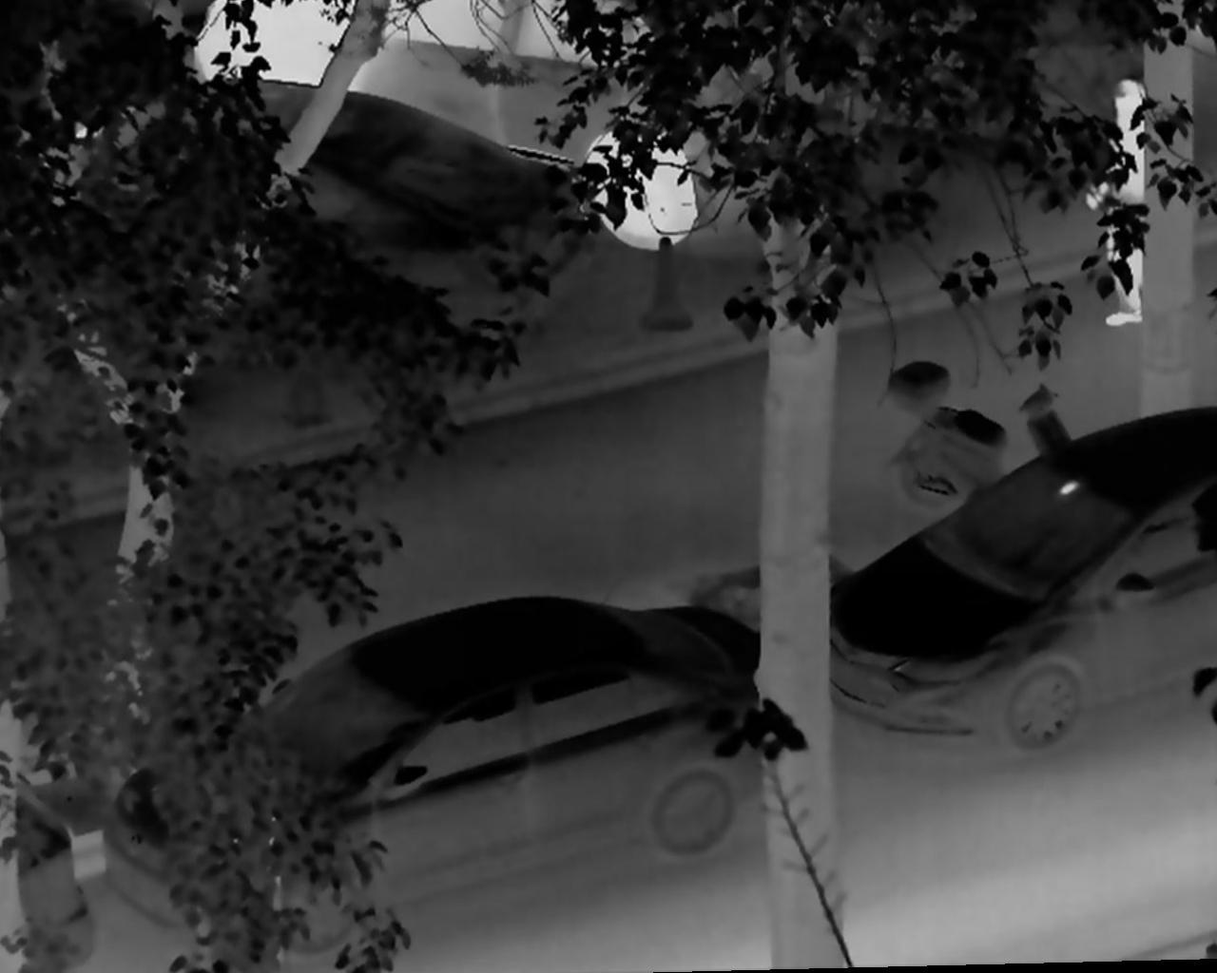person: (1088, 80, 1166, 336)
